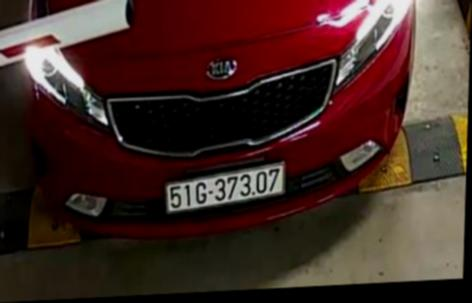License_Plate: (158, 164, 290, 220)
